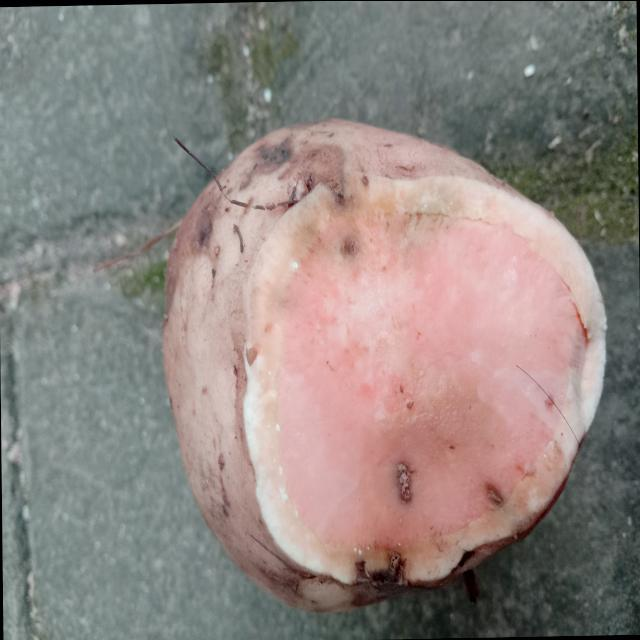Sick Sweet Potato_Tuber Rot: (244, 175, 605, 582)
